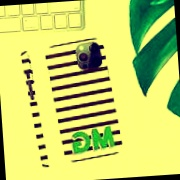iphone: (62, 38, 133, 162)
